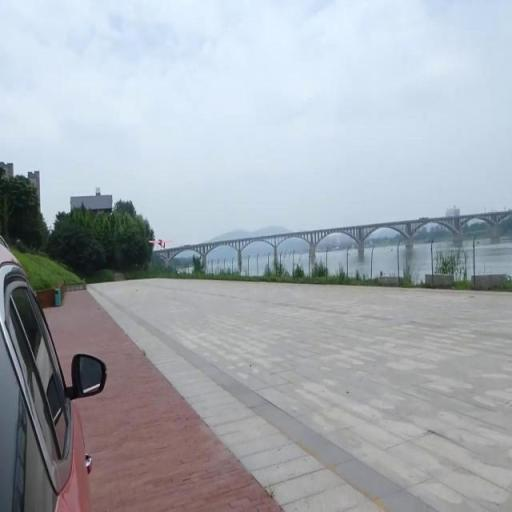uav: (148, 236, 172, 249)
